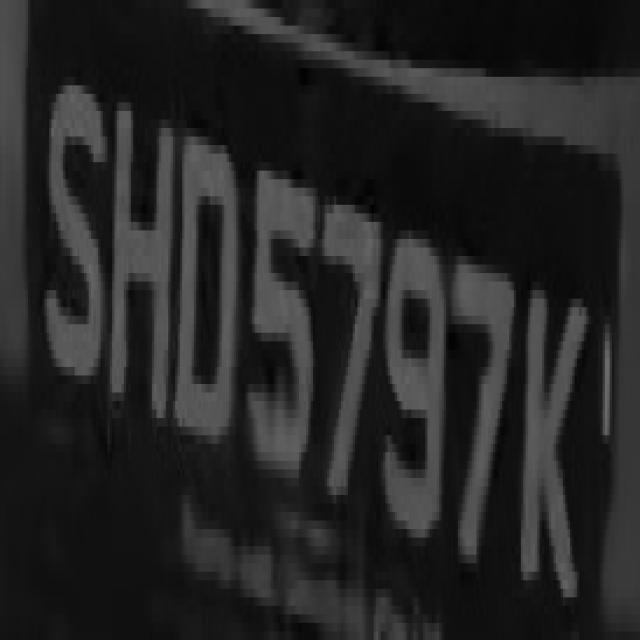5: (248, 120, 315, 520)
7: (313, 179, 381, 555), (448, 205, 507, 597)
9: (383, 197, 449, 598)
D: (175, 128, 238, 495)
H: (103, 69, 175, 452)
K: (518, 230, 588, 606)
S: (42, 34, 105, 418)
